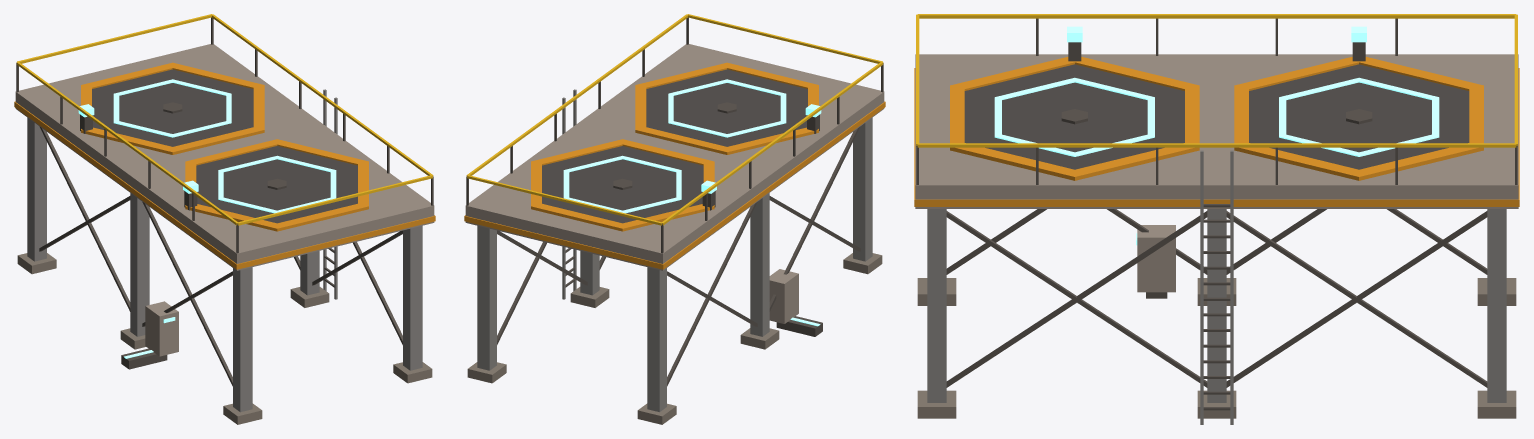
File: vymenik-dronport.glb
The picture shows the model from 3 angles, left to right: view 1: azimuth 30°, elevation 25°; view 2: azimuth 150°, elevation 25°; view 3: azimuth 270°, elevation 25°; orthographic projection. The views are drawn at different scales.
Parts seen in each view (by area): view 1: dronport; view 2: dronport; view 3: dronport.
Boxes of the visible parts, x1,y1,x2,y2 form: dronport: (14,14,435,424); dronport: (464,14,885,424); dronport: (914,14,1519,424).
Bounding box in the file's own units: 8.34 × 7.04 × 14.06.
